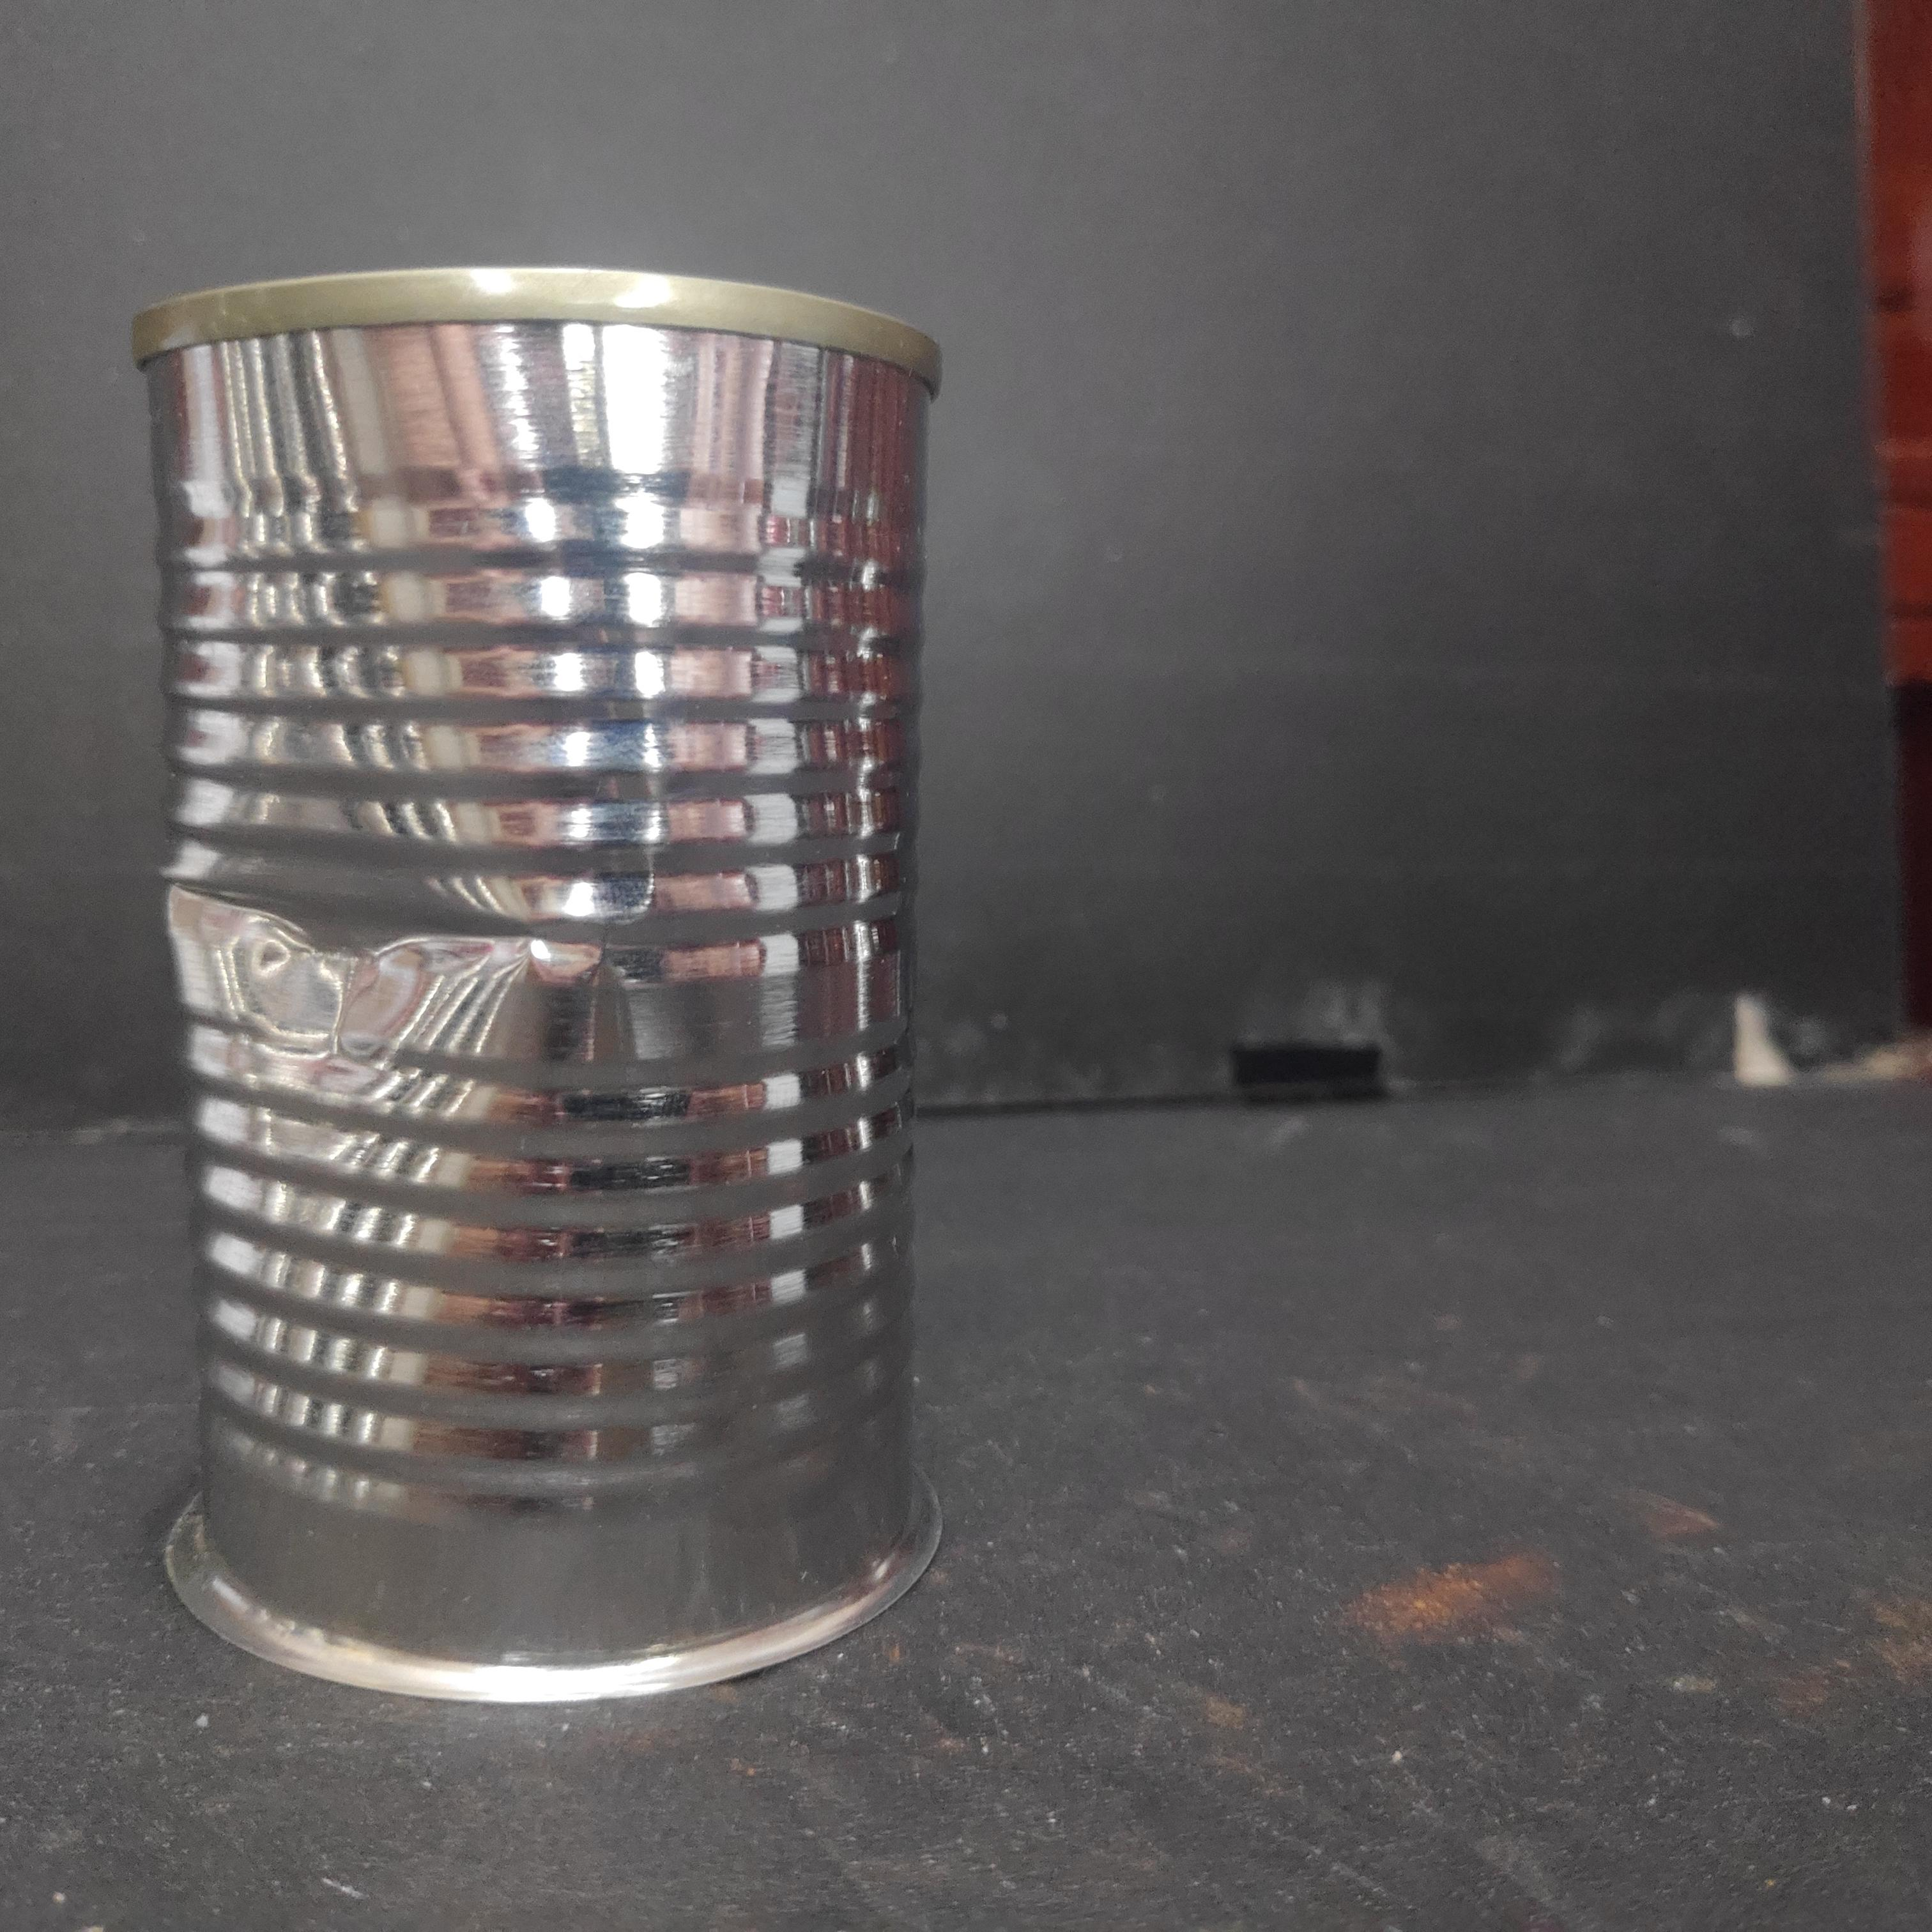Minor Defect: (122, 257, 957, 1723)
